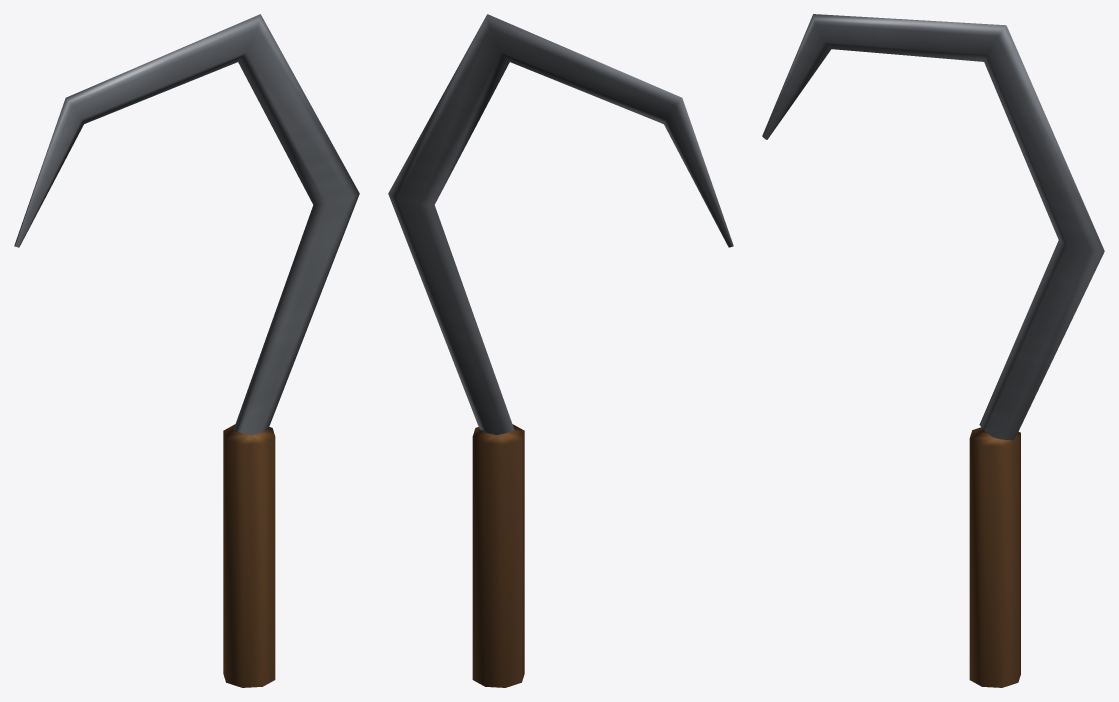
File: faucille.glb
The picture shows the model from 3 angles, left to right: view 1: azimuth 30°, elevation 25°; view 2: azimuth 150°, elevation 25°; view 3: azimuth 330°, elevation 25°; orthographic projection.
Visible parts, largest first — view 1: faucille; view 2: faucille; view 3: faucille.
Part boxes in pixels (x1,y1,x2,y2): faucille: (14, 14, 359, 687); faucille: (388, 14, 733, 687); faucille: (762, 14, 1104, 687).
Size of the model in its own units: 0.2378 by 0.434 by 0.032.
1 material, 1 textured.
